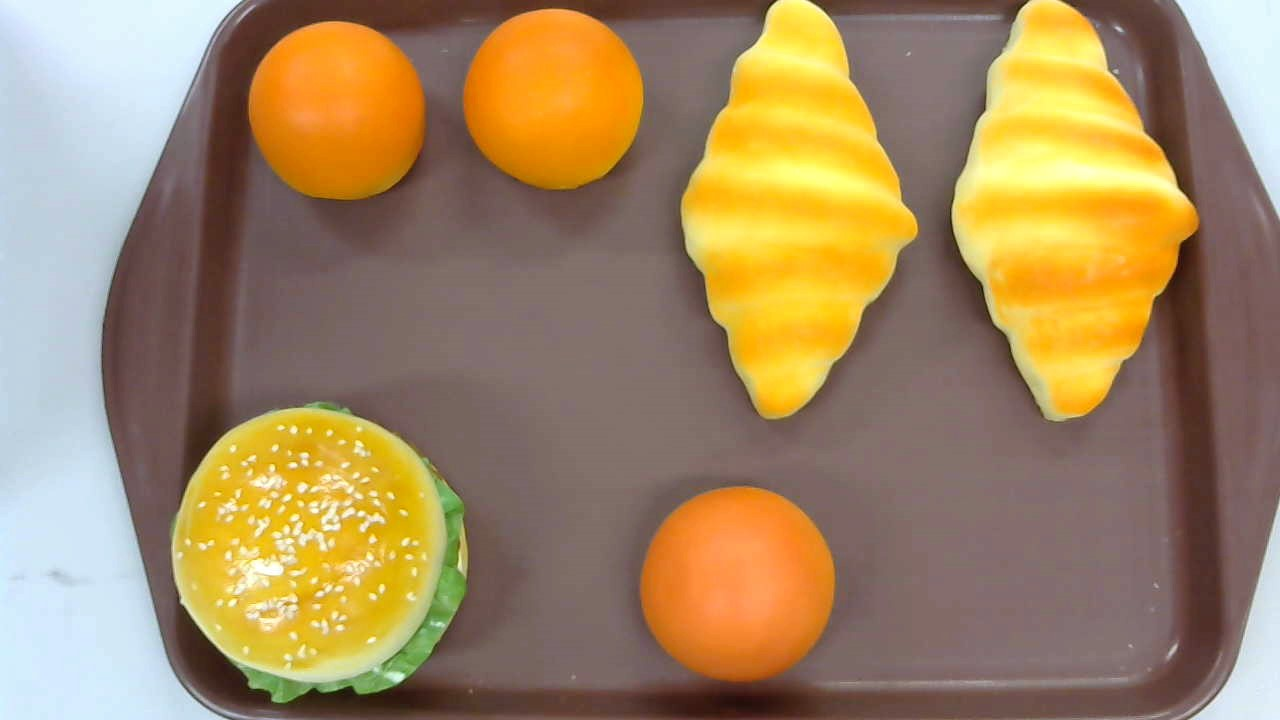bun: (640, 484, 835, 683), (462, 9, 644, 190), (247, 20, 427, 202)
croissant: (949, 1, 1201, 425), (679, 1, 919, 421)
hamburger: (170, 401, 468, 703)
